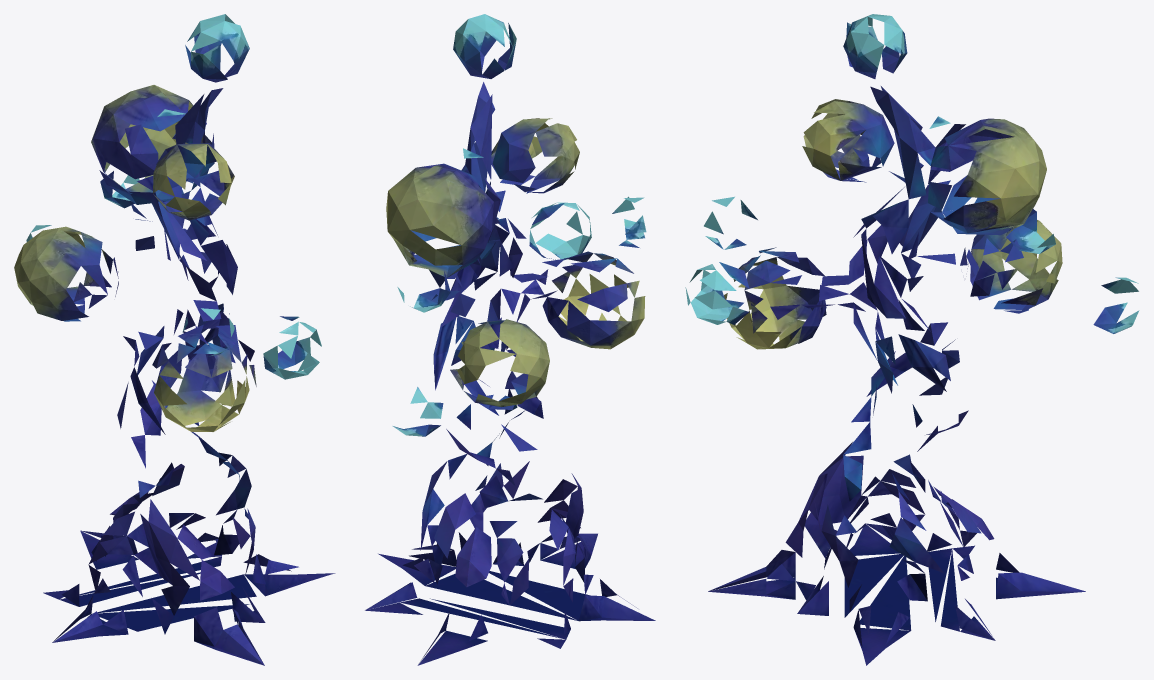
The model's file is tree_alien_LOD2.glb.
The picture shows the model from 3 angles, left to right: view 1: azimuth 30°, elevation 25°; view 2: azimuth 150°, elevation 25°; view 3: azimuth 270°, elevation 25°; orthographic projection. The views are drawn at different scales.
Visible parts, largest first — view 1: tree_alien_LOD2; view 2: tree_alien_LOD2; view 3: tree_alien_LOD2.
Part boxes in pixels (x1,y1,x2,y2): tree_alien_LOD2: (14, 14, 335, 665); tree_alien_LOD2: (365, 14, 655, 665); tree_alien_LOD2: (685, 14, 1139, 665).
Size of the model in its own units: 0.5144 by 0.9995 by 0.6924.
1 material, 1 textured.
